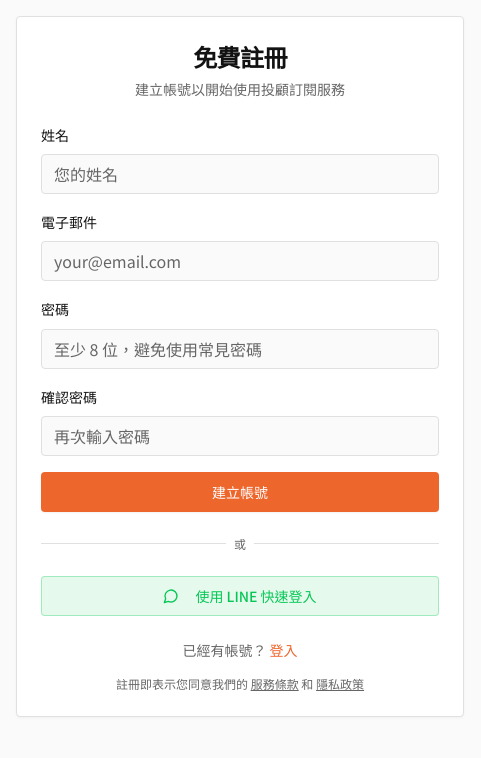
Test: Register form validation › rejects malformed email
This screenshot has width=481, height=758.
In the field labelled "姓名": (240, 174) [41, 154, 439, 194], type "Alice"
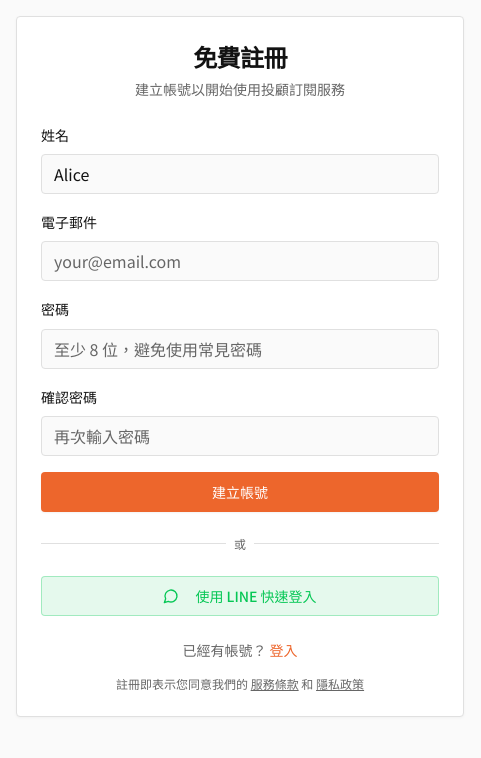
In the field labelled "電子郵件": (240, 261) [41, 241, 439, 281], type "not-an-email"
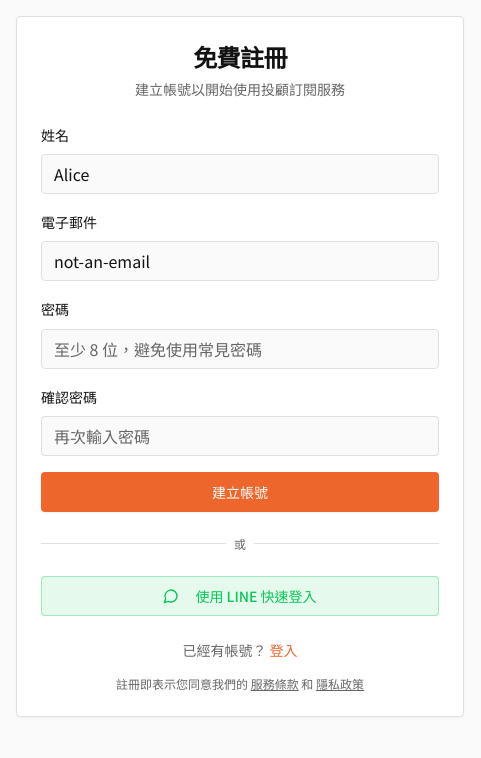
In the password field labelled "密碼": (240, 349) [41, 329, 439, 369], type "longenough"
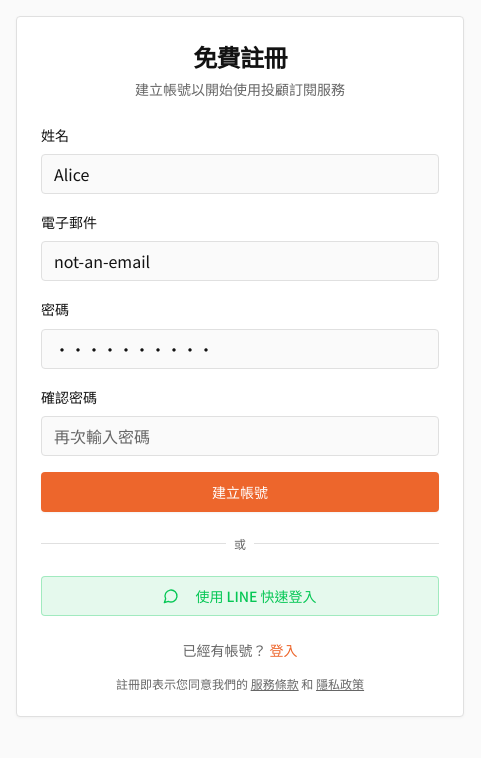
In the password field labelled "確認密碼": (240, 436) [41, 416, 439, 456], type "longenough"
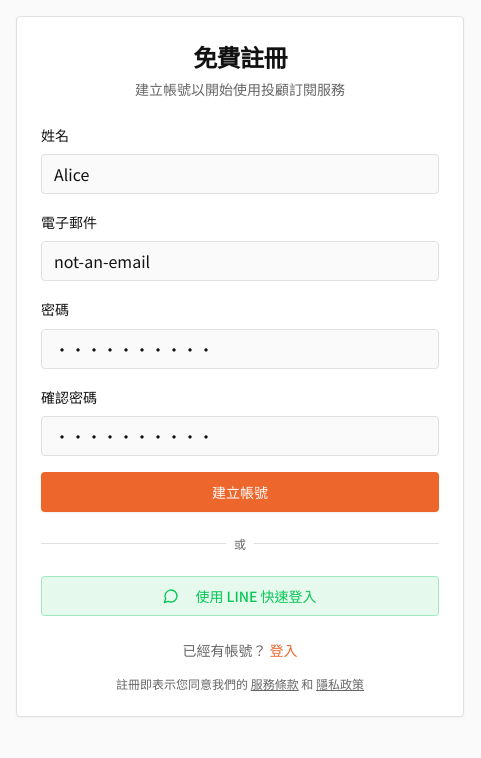
Submit the form "建立帳號", box [41, 123, 439, 512]
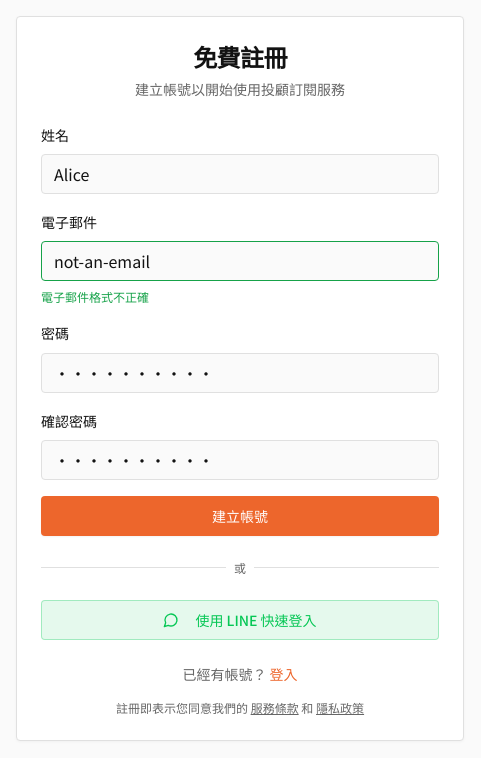
Expected: the text "電子郵件格式不正確" is shown, [41, 288, 149, 305]
